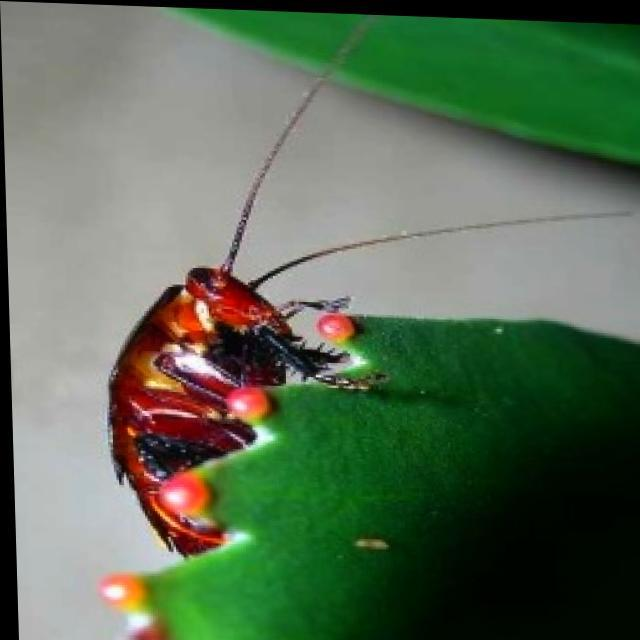cockroach: (96, 148, 370, 579)
